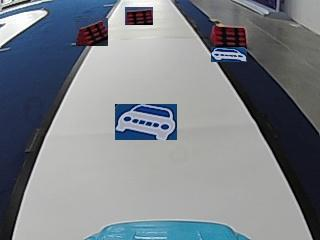bomb: (209, 24, 247, 46)
